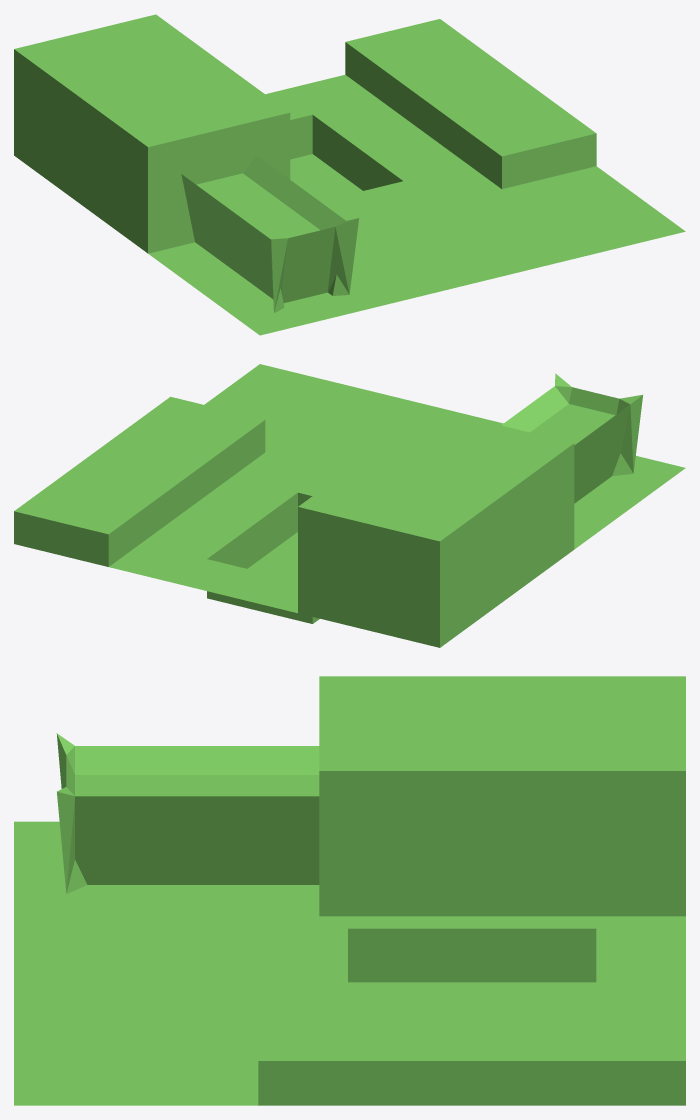
File: fourthFloorTile.dae
3 renders of one model, top to bottom at view 1: azimuth 30°, elevation 25°; view 2: azimuth 150°, elevation 25°; view 3: azimuth 270°, elevation 25°, orthographic. The views are drawn at different scales.
Parts seen in each view (by area): view 1: Plane; view 2: Plane; view 3: Plane.
Part boxes in pixels (x1,y1,x2,y2): Plane: [14, 14, 685, 335]; Plane: [14, 364, 685, 647]; Plane: [14, 676, 685, 1105].
Bounding box in the file's own units: 16 × 16 × 5.23.
